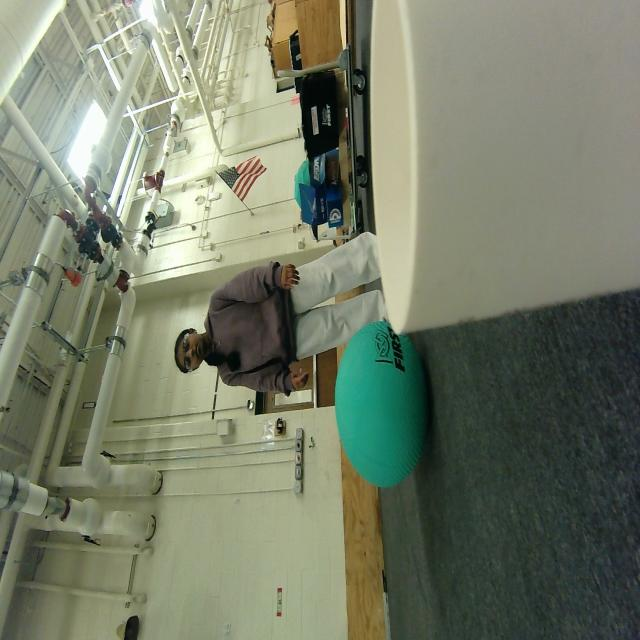algae: (335, 320, 431, 488)
coral: (369, 0, 639, 331)
